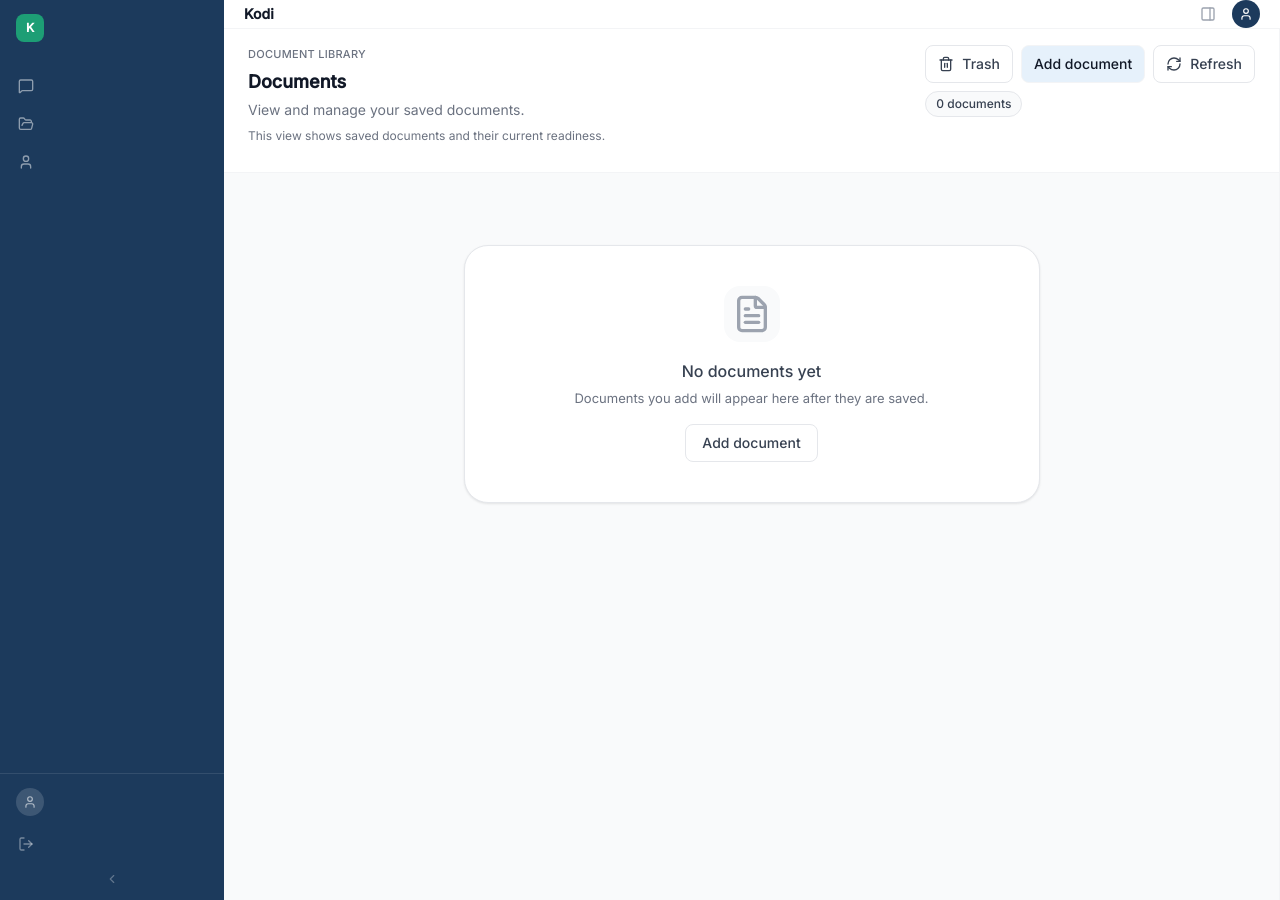
Test case: document foundation › opens the add document dialog from the library action
Click the button "Add document" in the row of "Document library".
click(1083, 64)  # box [1021,45,1145,83]
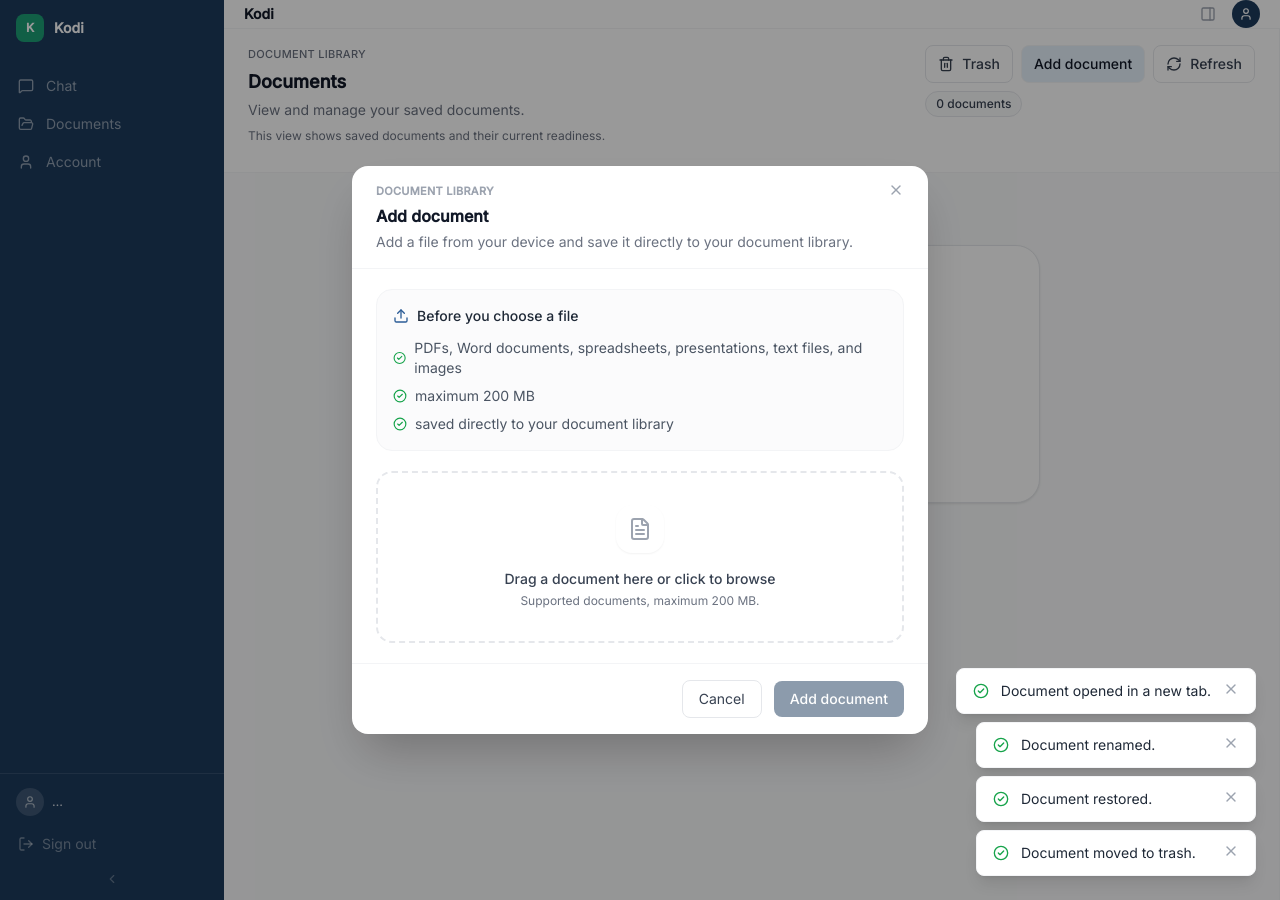
Now the dialog "Add document" is shown
Now the text "Before you choose a file" is shown, box [417,306,578,326]
Now the text "maximum 200 MB" is shown, box [415,386,535,406]
